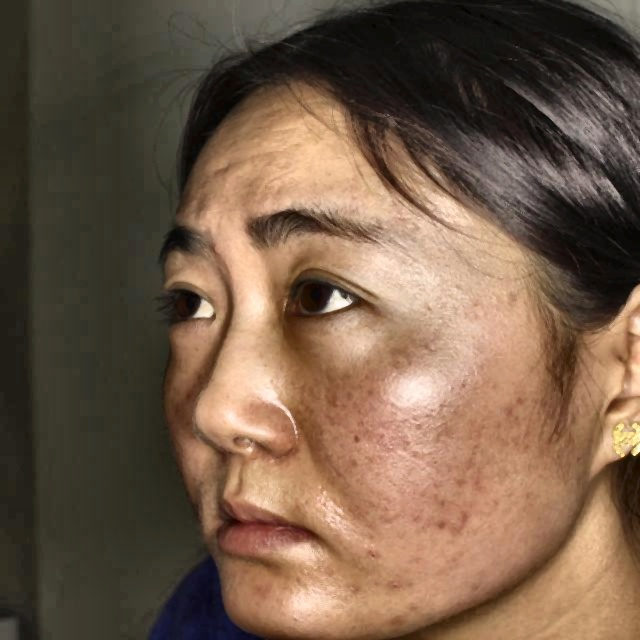comedone: (384, 568, 422, 598)
